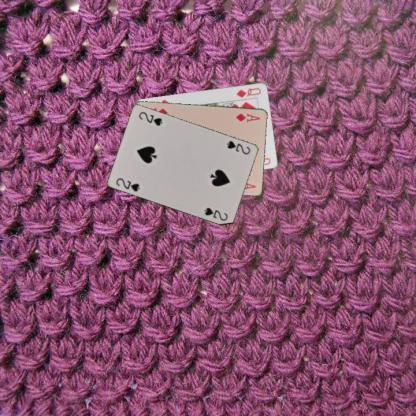2s: (224, 138, 252, 156), (114, 175, 142, 193)
Ad: (233, 110, 262, 122)
Qd: (233, 85, 262, 99)
